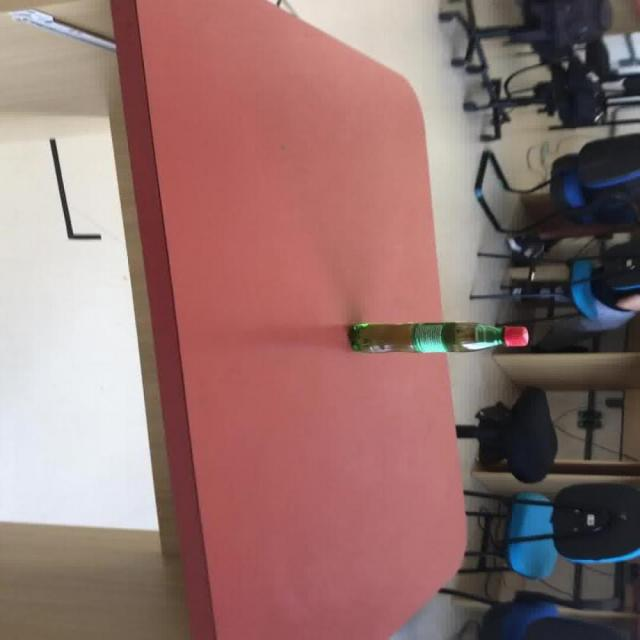Guarana: (347, 320, 529, 353)
